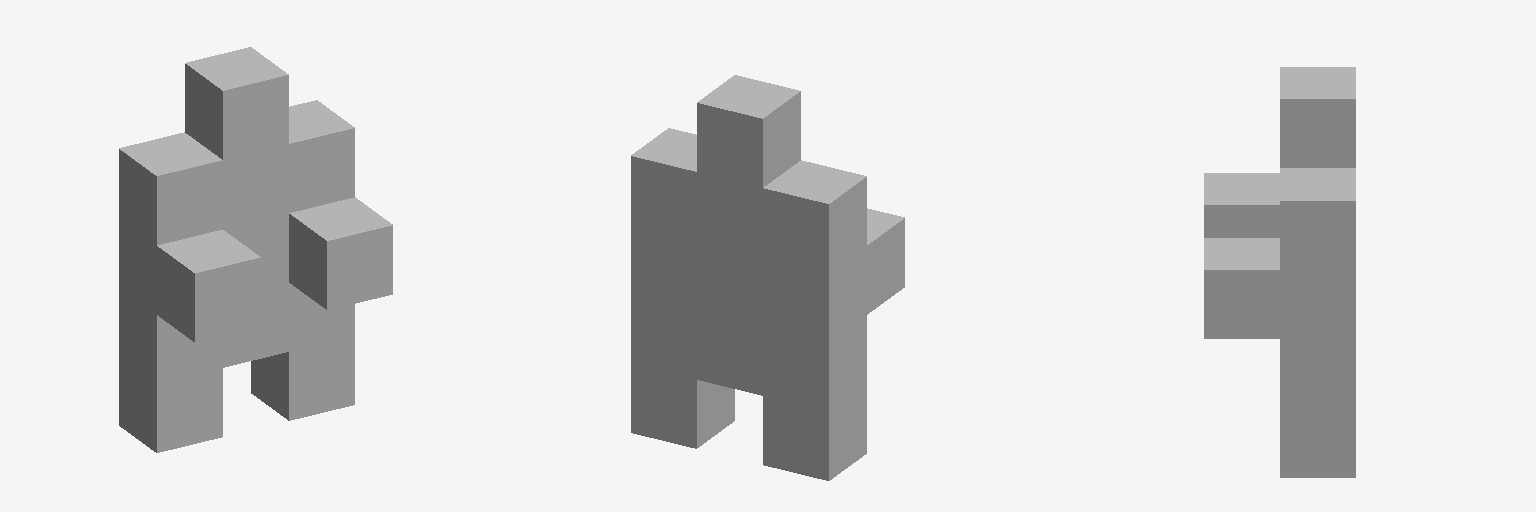
Rendered from Player.obj.
3 renders of one model, left to right at view 1: azimuth 30°, elevation 25°; view 2: azimuth 150°, elevation 25°; view 3: azimuth 270°, elevation 25°, orthographic.
Parts seen in each view (by area): view 1: object 1; view 2: object 1; view 3: object 1.
Boxes of the visible parts, box(x1,y1,x2,y2) form: object 1: box(119, 47, 392, 452); object 1: box(631, 75, 904, 480); object 1: box(1204, 67, 1355, 477).
Bounding box in the file's own units: 0.3 × 0.5 × 0.2.